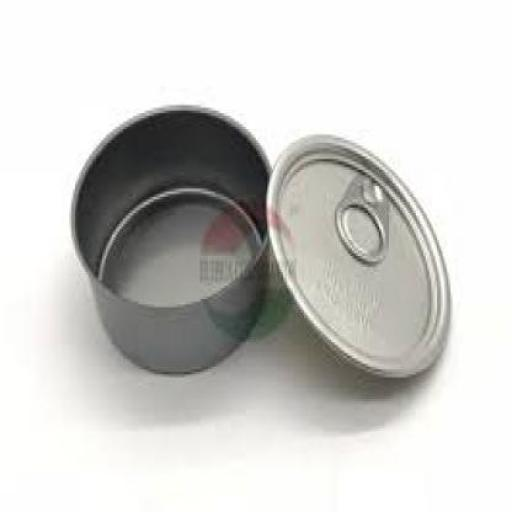metal: (72, 106, 270, 372), (262, 132, 448, 372)
